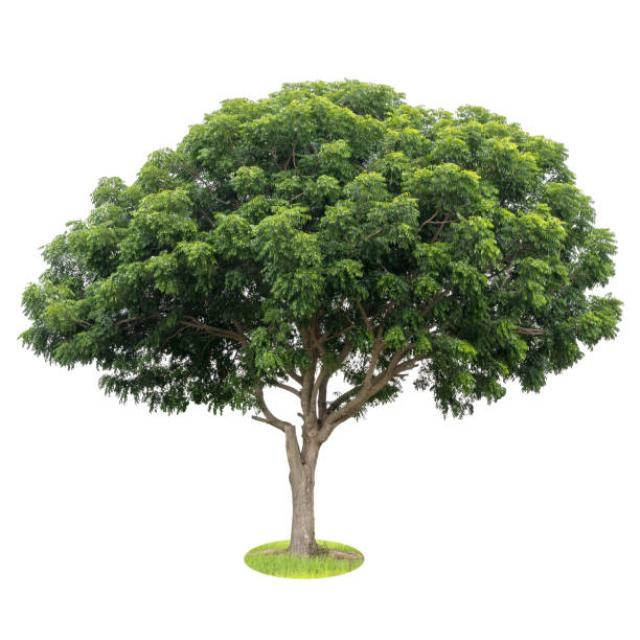Neem-Tree: (33, 75, 636, 423)
